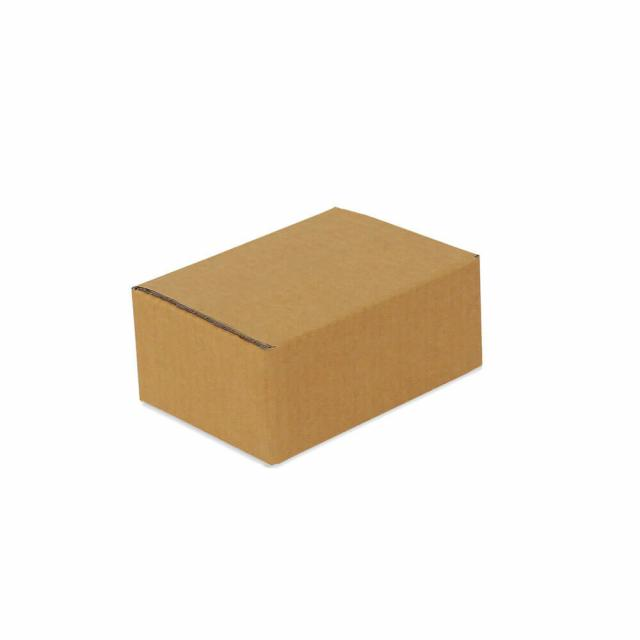box: (94, 194, 518, 483)
